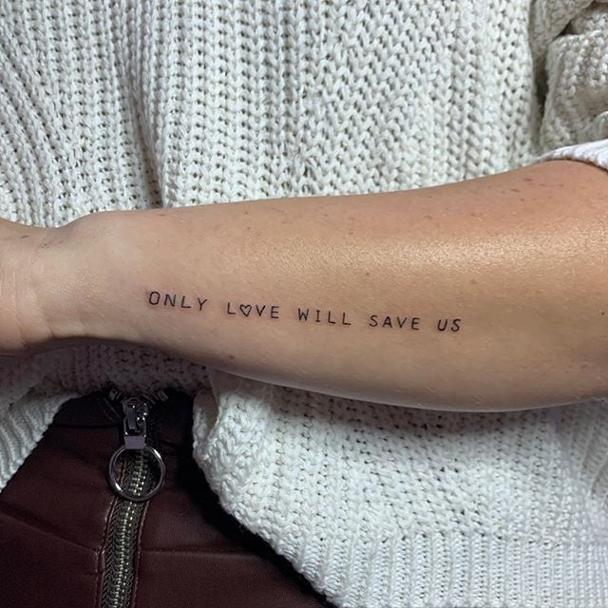tattoos: (147, 290, 463, 333)
